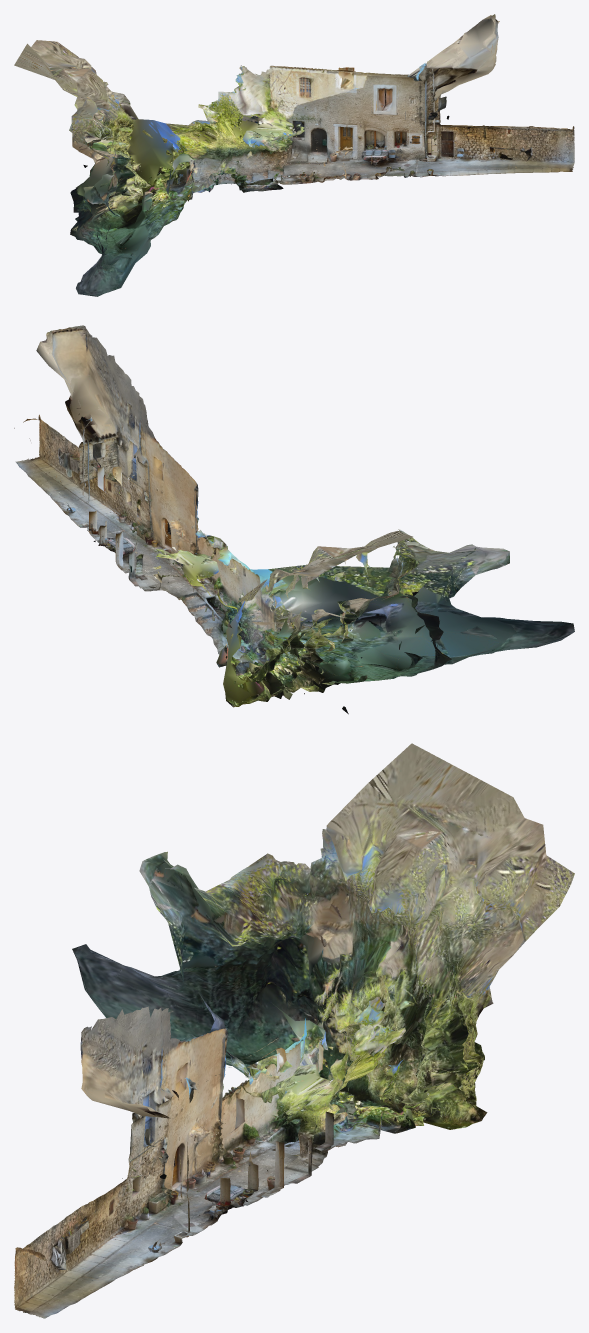
Rendered from medium.glb.
3 renders of one model, top to bottom at view 1: azimuth 30°, elevation 25°; view 2: azimuth 150°, elevation 25°; view 3: azimuth 270°, elevation 25°, orthographic. The views are drawn at different scales.
Parts seen in each view (by area): view 1: medium.005; view 2: medium.005; view 3: medium.005.
Part boxes in pixels (bbox=[...]): medium.005: bbox=[14, 14, 574, 296]; medium.005: bbox=[14, 325, 574, 714]; medium.005: bbox=[14, 743, 574, 1318].
Bounding box in the file's own units: 35.59 × 13.77 × 21.34.
1 material, 1 textured.
